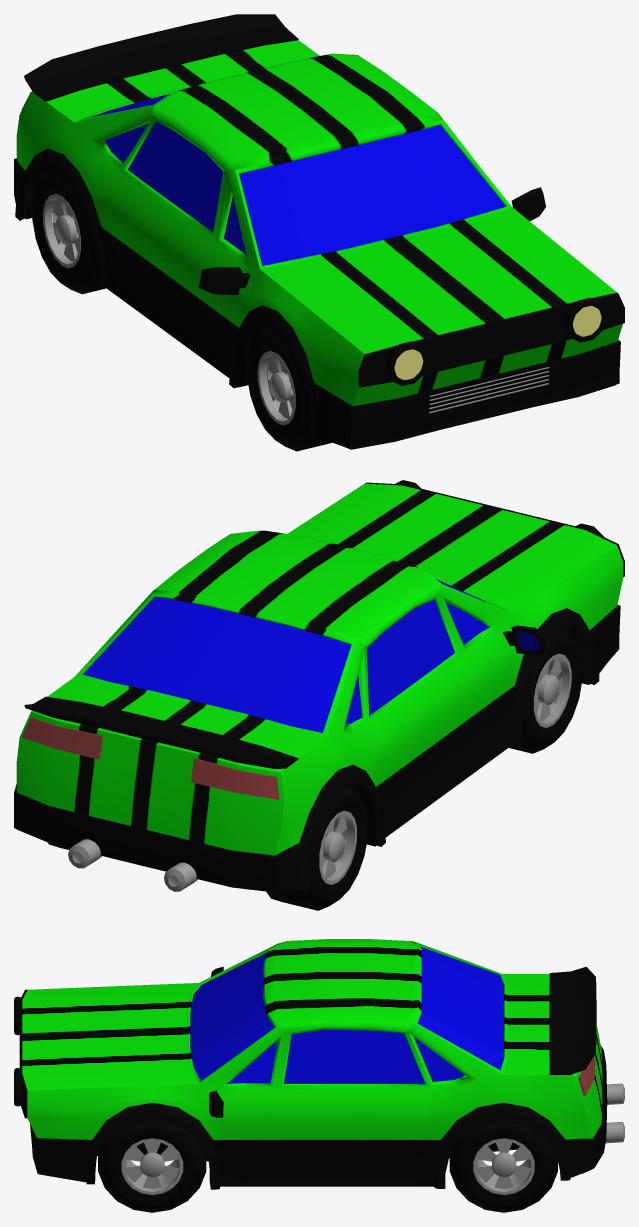
File: Muscle Evolution2 Black TrilineBlackGreen Blue LightGrey.glb
The picture shows the model from 3 angles, top to bottom: view 1: azimuth 30°, elevation 25°; view 2: azimuth 150°, elevation 25°; view 3: azimuth 270°, elevation 25°; orthographic projection. The views are drawn at different scales.
Visible parts, largest first — view 1: evo2_body2_f1_dupl, evo2_frontGlass_f1_dupl, evo2_sill2_f1_dupl, evo2_spoiler2_f1_dupl, evo2_front_square2_f1_dupl, evo2_glasseBigR_f1_dupl, evo2_mudguardFR_f1_dupl, evo2_mudguardbR_f1_dupl, evo2_tire_rf1_f1_dupl, evo2_tire_rf_f1_dupl, evo2_rim_A_rf_f1_dupl, evo2_rim_A_rb_f1_dupl (+9 smaller); view 2: evo2_body2_f1_dupl, evo2_BackGlassGlass_f1_dupl, evo2_sill2_f1_dupl, evo2_spoiler2_f1_dupl, evo2_glasseBigR_f1_dupl, evo2_tire_rf_f1_dupl, evo2_mudguardbR_f1_dupl, evo2_mudguardFR_f1_dupl, evo2_tire_rf1_f1_dupl, evo2_rim_A_rf_f1_dupl, evo2_rim_A_rb_f1_dupl, evo2_redlightR2_f1_dupl (+5 smaller); view 3: evo2_body2_f1_dupl, evo2_sill2_f1_dupl, evo2_BackGlassGlass_f1_dupl, evo2_glasseBigL_f1_dupl, evo2_frontGlass_f1_dupl, evo2_tire_lf_f1_dupl, evo2_tire_lb_f1_dupl, evo2_spoiler2_f1_dupl, evo2_mudguardBL_f1_dupl, evo2_mudguardFL_f1_dupl, evo2_rim_A_lf_f1_dupl, evo2_rim_A_lb_f1_dupl (+4 smaller).
Boxes of the visible parts, x1,y1,x2,y2 form: evo2_body2_f1_dupl: (16, 40, 622, 405); evo2_frontGlass_f1_dupl: (239, 125, 505, 265); evo2_sill2_f1_dupl: (14, 158, 620, 449); evo2_spoiler2_f1_dupl: (24, 14, 298, 101); evo2_front_square2_f1_dupl: (358, 292, 624, 387); evo2_glasseBigR_f1_dupl: (128, 121, 223, 231); evo2_mudguardFR_f1_dupl: (229, 305, 314, 437); evo2_mudguardbR_f1_dupl: (15, 148, 104, 286); evo2_tire_rf1_f1_dupl: (247, 327, 331, 451); evo2_tire_rf_f1_dupl: (32, 171, 105, 294); evo2_rim_A_rf_f1_dupl: (257, 351, 295, 425); evo2_rim_A_rb_f1_dupl: (43, 194, 80, 268); evo2_body2_f1_dupl: (16, 483, 623, 855); evo2_BackGlassGlass_f1_dupl: (83, 596, 351, 732); evo2_sill2_f1_dupl: (14, 605, 620, 891); evo2_spoiler2_f1_dupl: (24, 696, 298, 768); evo2_glasseBigR_f1_dupl: (367, 599, 454, 715); evo2_tire_rf_f1_dupl: (266, 787, 367, 910); evo2_mudguardbR_f1_dupl: (299, 764, 385, 891); evo2_mudguardFR_f1_dupl: (512, 608, 599, 746); evo2_tire_rf1_f1_dupl: (509, 629, 582, 753); evo2_rim_A_rf_f1_dupl: (533, 653, 571, 727); evo2_rim_A_rb_f1_dupl: (319, 810, 356, 884); evo2_redlightR2_f1_dupl: (191, 758, 279, 799); evo2_body2_f1_dupl: (22, 939, 602, 1159); evo2_sill2_f1_dupl: (30, 1045, 607, 1186); evo2_BackGlassGlass_f1_dupl: (417, 946, 503, 1070); evo2_glasseBigL_f1_dupl: (283, 1029, 425, 1084); evo2_frontGlass_f1_dupl: (190, 953, 274, 1080); evo2_tire_lf_f1_dupl: (98, 1120, 206, 1212); evo2_tire_lb_f1_dupl: (449, 1122, 557, 1212); evo2_spoiler2_f1_dupl: (549, 966, 596, 1074); evo2_mudguardBL_f1_dupl: (433, 1102, 570, 1188); evo2_mudguardFL_f1_dupl: (86, 1102, 220, 1189); evo2_rim_A_lf_f1_dupl: (121, 1138, 183, 1194); evo2_rim_A_lb_f1_dupl: (473, 1138, 534, 1194).
Size of the model in its own units: 177 by 112 by 331.
Materials: 7 (1 with a texture image).
